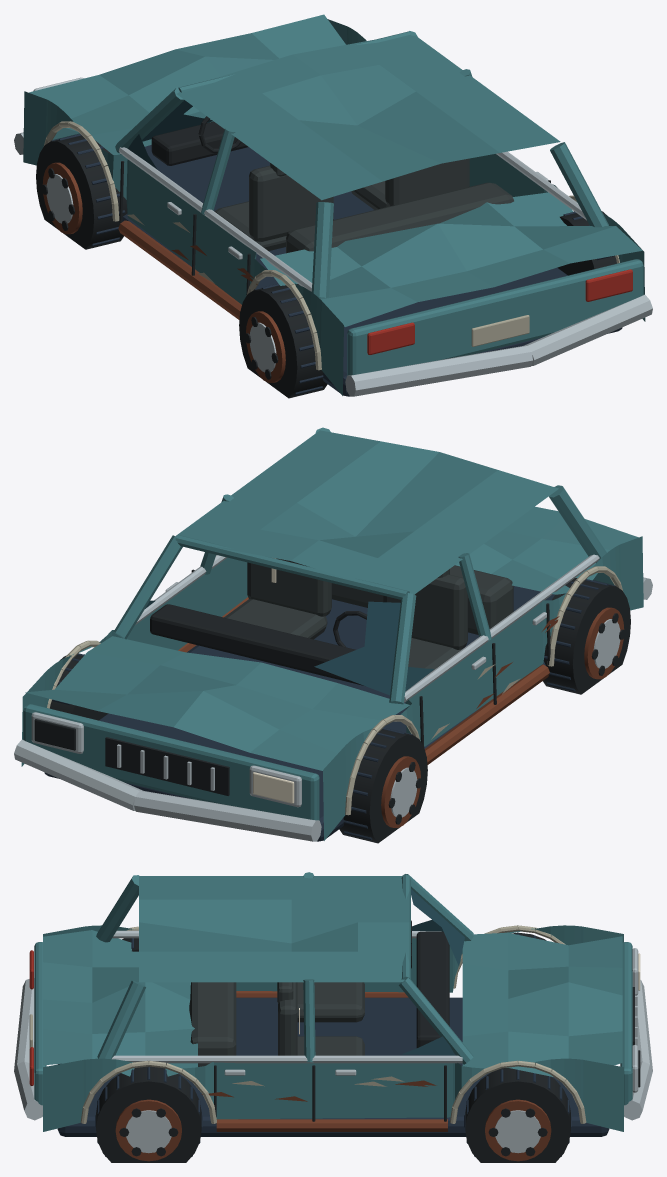
Rendered from crush_car_1.glb.
The picture shows the model from 3 angles, top to bottom: view 1: azimuth 30°, elevation 25°; view 2: azimuth 150°, elevation 25°; view 3: azimuth 270°, elevation 25°; orthographic projection. The views are drawn at different scales.
Visible parts, largest first — view 1: Wreck_Faded petrol estate, Wreck_Rubber, Wreck_Torn charcoal upholstery.002, Wreck_Bare alloy, Wreck_Truss steel, Wreck_Exposed rust.002, Wreck_Scraped primer.002, Wreck_Cracked tail lens.002, Wreck_Wreck glass; view 2: Wreck_Faded petrol estate, Wreck_Rubber, Wreck_Bare alloy, Wreck_Torn charcoal upholstery.002, Wreck_Truss steel, Wreck_Exposed rust.002, Wreck_Wreck glass, Wreck_Scraped primer.002, Wreck_Warm white; view 3: Wreck_Faded petrol estate, Wreck_Rubber, Wreck_Truss steel, Wreck_Bare alloy, Wreck_Torn charcoal upholstery.002, Wreck_Exposed rust.002, Wreck_Scraped primer.002, Wreck_Wreck glass.
Part boxes in pixels (x1,y1,x2,y2): Wreck_Faded petrol estate: [23, 14, 645, 395]; Wreck_Rubber: [36, 116, 616, 398]; Wreck_Torn charcoal upholstery.002: [214, 158, 513, 253]; Wreck_Bare alloy: [14, 77, 652, 396]; Wreck_Truss steel: [51, 134, 622, 396]; Wreck_Exposed rust.002: [42, 162, 285, 382]; Wreck_Scraped primer.002: [43, 121, 619, 370]; Wreck_Cracked tail lens.002: [367, 269, 632, 354]; Wreck_Wreck glass: [128, 100, 212, 168]; Wreck_Faded petrol estate: [21, 427, 643, 840]; Wreck_Rubber: [34, 569, 630, 843]; Wreck_Bare alloy: [14, 554, 652, 841]; Wreck_Torn charcoal upholstery.002: [224, 558, 513, 675]; Wreck_Truss steel: [44, 579, 615, 841]; Wreck_Exposed rust.002: [178, 597, 624, 827]; Wreck_Wreck glass: [145, 600, 434, 695]; Wreck_Scraped primer.002: [47, 566, 623, 815]; Wreck_Warm white: [253, 557, 294, 803]; Wreck_Faded petrol estate: [34, 872, 632, 1131]; Wreck_Rubber: [96, 920, 640, 1162]; Wreck_Truss steel: [57, 933, 609, 1156]; Wreck_Bare alloy: [14, 930, 652, 1153]; Wreck_Torn charcoal upholstery.002: [189, 982, 364, 1066]; Wreck_Exposed rust.002: [115, 991, 551, 1161]; Wreck_Scraped primer.002: [29, 925, 586, 1123]; Wreck_Wreck glass: [402, 889, 464, 1055].
Size of the model in its own units: 2.99 by 1.5 by 5.19.
